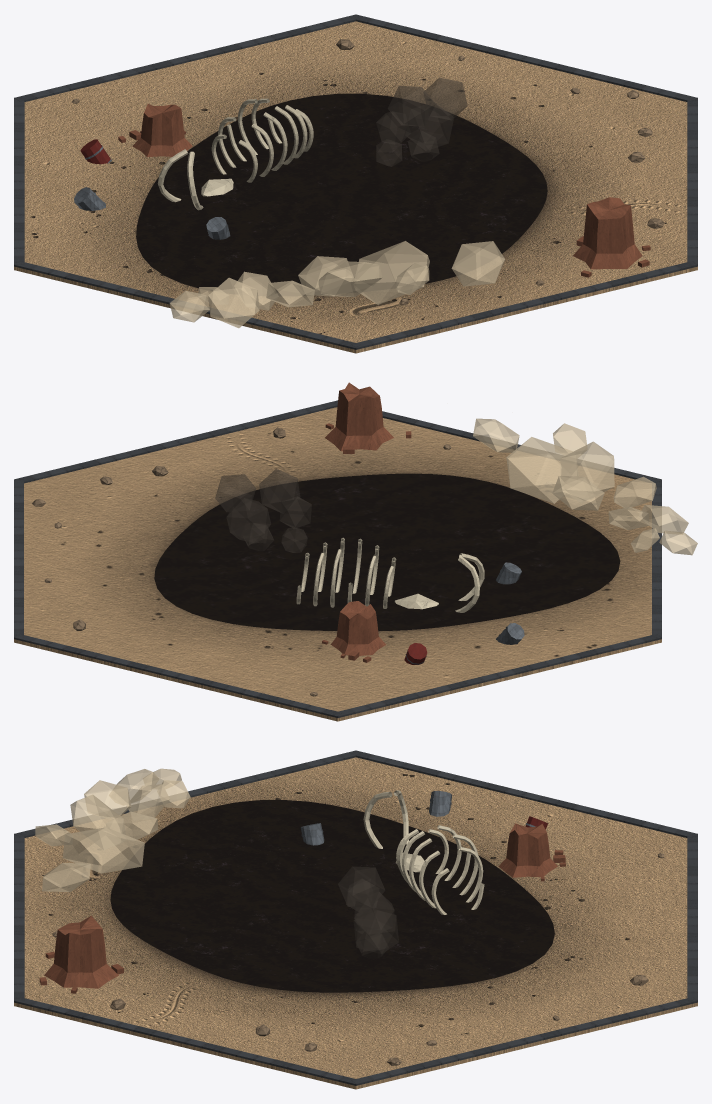
The model's file is WasteTar.glb.
3 views of the same model, one above another, from view 1: azimuth 30°, elevation 25°; view 2: azimuth 150°, elevation 25°; view 3: azimuth 270°, elevation 25° (orthographic). The views are drawn at different scales.
Parts seen in each view (by area): view 1: WasteTar_Ground, WasteTar_Tar, WasteTar_GroundTrim, WasteTar_Petrified, WasteTar_Bone, WasteTar_Dust02_05, WasteTar_Dust02_06, WasteTar_Dust01_03, WasteTar_Dust01_05, WasteTar_Dust02_04, WasteTar_TarFume02_03, WasteTar_TarFume01_04 (+10 smaller); view 2: WasteTar_Ground, WasteTar_Tar, WasteTar_GroundTrim, WasteTar_Petrified, WasteTar_Bone, WasteTar_Dust02_05, WasteTar_Dust01_05, WasteTar_TarFume02_03, WasteTar_Dust02_04, WasteTar_TarFume01_04, WasteTar_TarFume02_04, WasteTar_Dust02_06 (+10 smaller); view 3: WasteTar_Ground, WasteTar_Tar, WasteTar_GroundTrim, WasteTar_Petrified, WasteTar_Bone, WasteTar_Dust02_05, WasteTar_Dust01_05, WasteTar_TarFume02_03, WasteTar_TarFume01_04, WasteTar_Dust01_04, WasteTar_TarFume02_04, WasteTar_Dust02_06 (+10 smaller).
Part boxes in pixels (x1,y1,x2,y2): WasteTar_Ground: (14, 21, 697, 353); WasteTar_Tar: (136, 93, 547, 295); WasteTar_GroundTrim: (14, 14, 697, 349); WasteTar_Petrified: (118, 104, 650, 277); WasteTar_Bone: (157, 98, 313, 210); WasteTar_Dust02_05: (353, 241, 429, 304); WasteTar_Dust02_06: (451, 241, 504, 286); WasteTar_Dust01_03: (208, 277, 259, 328); WasteTar_Dust01_05: (318, 261, 382, 297); WasteTar_Dust02_04: (298, 256, 353, 296); WasteTar_TarFume02_03: (405, 103, 453, 150); WasteTar_TarFume01_04: (388, 85, 435, 126); WasteTar_Ground: (14, 407, 661, 721); WasteTar_Tar: (154, 473, 620, 631); WasteTar_GroundTrim: (14, 400, 661, 717); WasteTar_Petrified: (322, 382, 411, 662); WasteTar_Bone: (296, 537, 484, 612); WasteTar_Dust02_05: (506, 437, 577, 503); WasteTar_Dust01_05: (560, 441, 614, 502); WasteTar_TarFume02_03: (226, 498, 270, 542); WasteTar_Dust02_04: (552, 476, 604, 510); WasteTar_TarFume01_04: (259, 469, 300, 513); WasteTar_TarFume02_04: (215, 474, 255, 512); WasteTar_Dust02_06: (473, 418, 519, 452); WasteTar_Ground: (14, 757, 697, 1089); WasteTar_Tar: (110, 800, 554, 992); WasteTar_GroundTrim: (14, 750, 697, 1085); WasteTar_Petrified: (39, 823, 565, 993); WasteTar_Bone: (363, 790, 484, 914); WasteTar_Dust02_05: (62, 827, 144, 873); WasteTar_Dust01_05: (70, 794, 125, 849); WasteTar_TarFume02_03: (353, 909, 398, 953); WasteTar_TarFume01_04: (338, 866, 384, 907); WasteTar_Dust01_04: (84, 780, 131, 818); WasteTar_TarFume02_04: (354, 892, 394, 936); WasteTar_Dust02_06: (42, 863, 90, 891).
Bounding box in the file's own units: 12 × 1.62 × 10.39.
11 materials, 8 textured.
